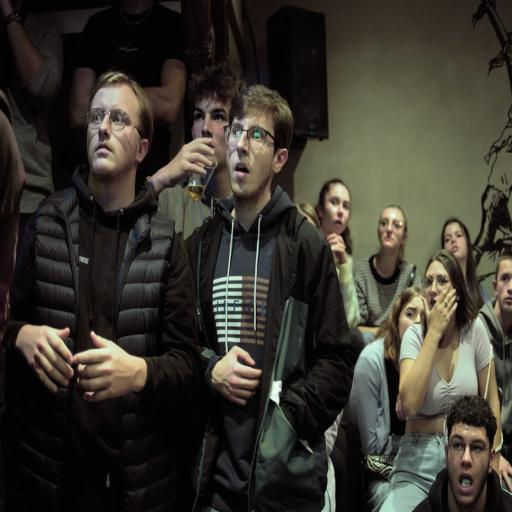face: (87, 84, 148, 184), (228, 113, 288, 206), (446, 423, 494, 510), (192, 98, 231, 168), (396, 285, 423, 352), (318, 183, 350, 236), (424, 260, 450, 309), (378, 207, 407, 250), (493, 259, 512, 317), (443, 222, 468, 263), (298, 208, 316, 228)
